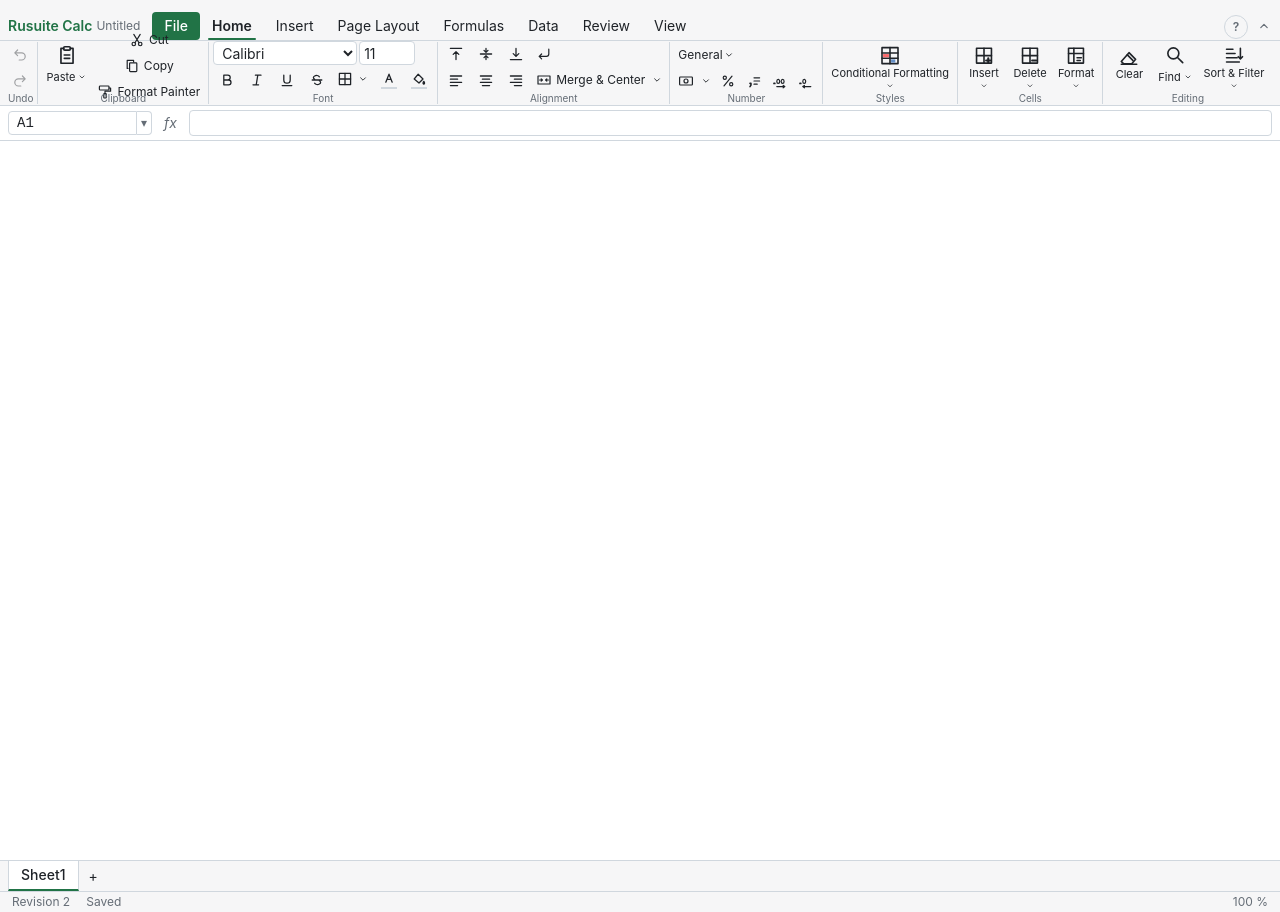
enter vs edit mode › edit mode (F2): arrows move the caret; F2 in the editor switches to pointing
The image size is (1280, 912).
Check: the tab "Sheet1" is shown, box [8,861,78,891]
Press F2 in the table with test id "grid"
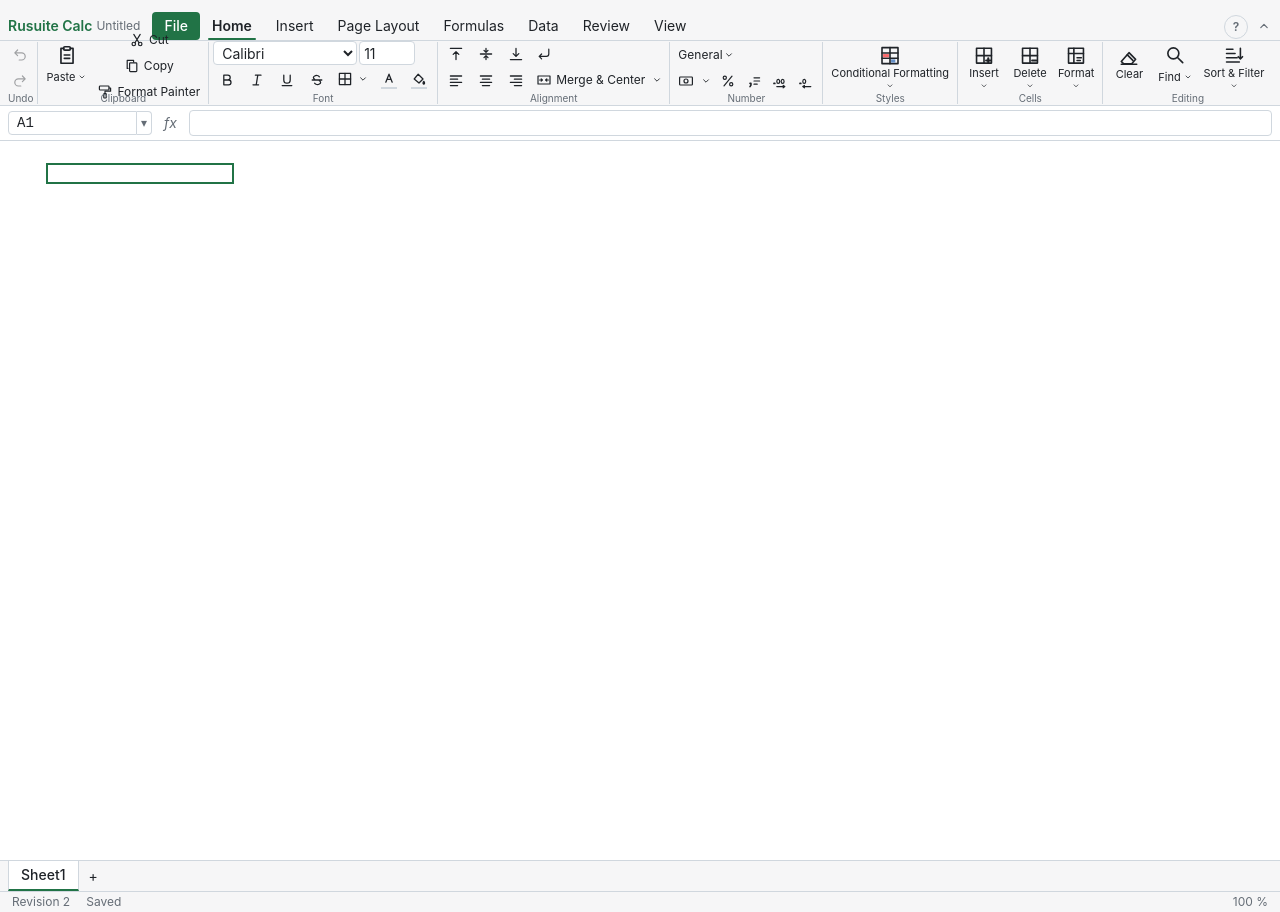
Type "=1+" into the text box with test id "cell-editor" at point(140, 174), box [46,163,234,184]
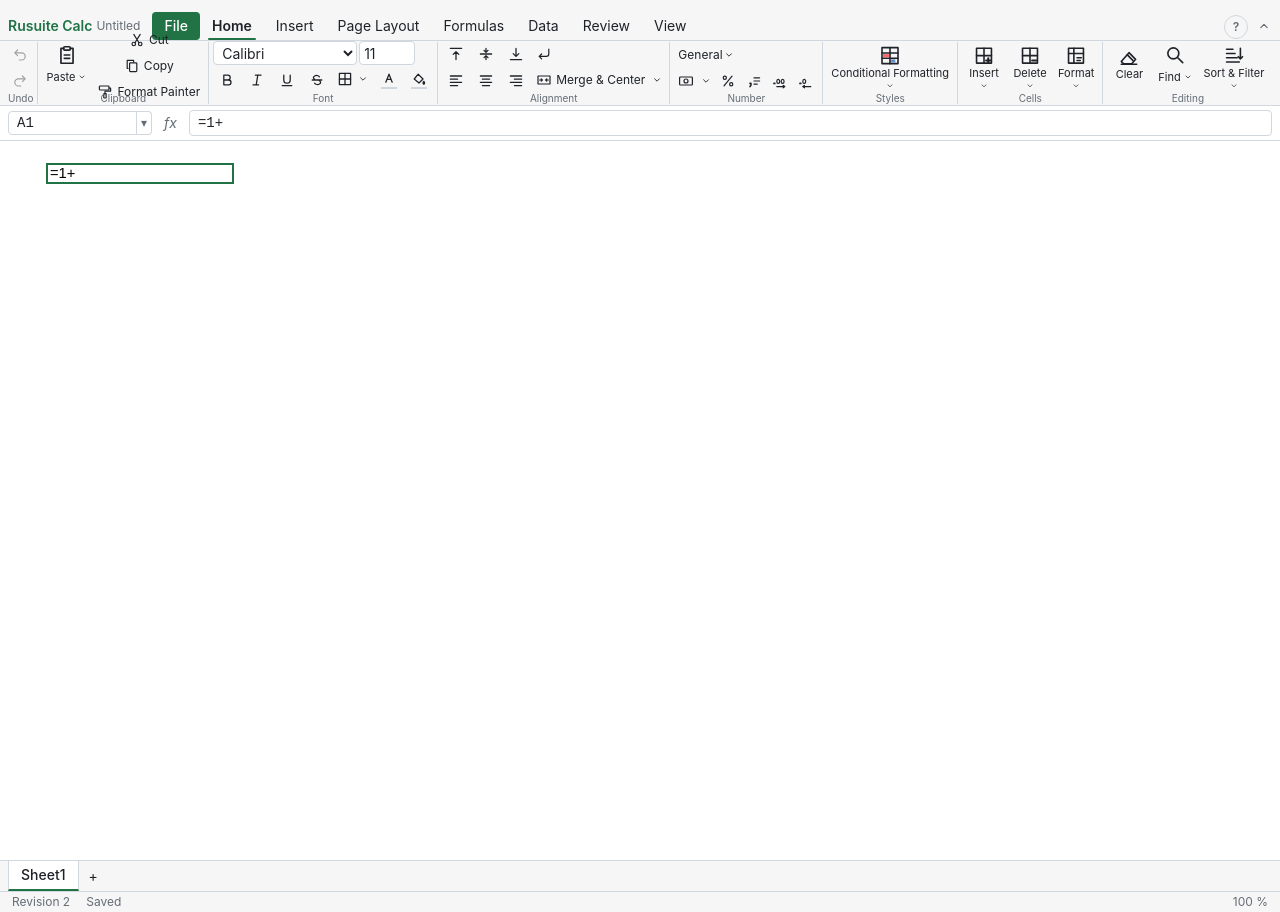
Press ArrowLeft in the text box with test id "cell-editor", box [46,163,234,184]
Press F2 in the text box with test id "cell-editor", box [46,163,234,184]
Press ArrowRight in the text box with test id "cell-editor", box [46,163,234,184]
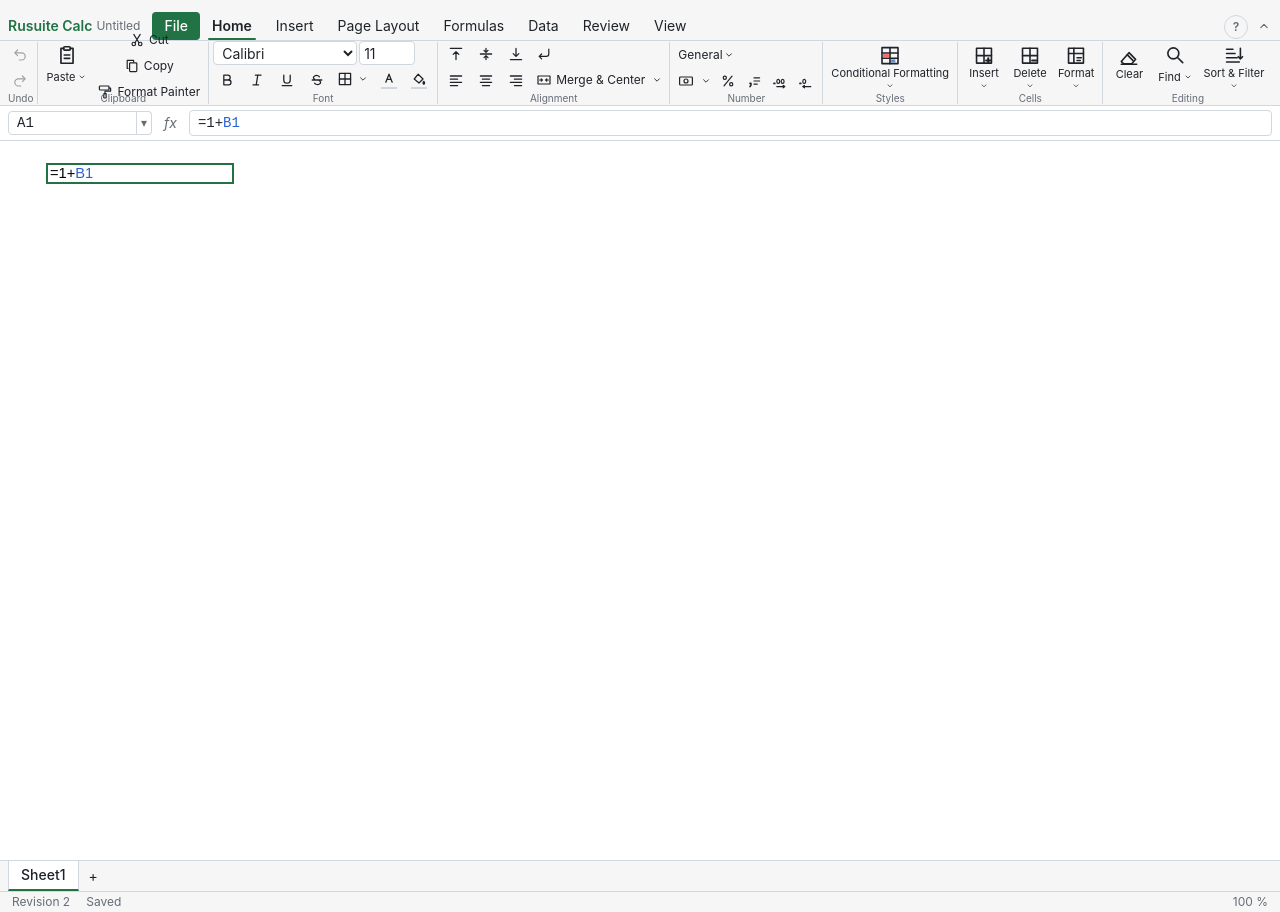
Check: the text box with test id "cell-editor" holds "=1+B1", box [46,163,234,184]
